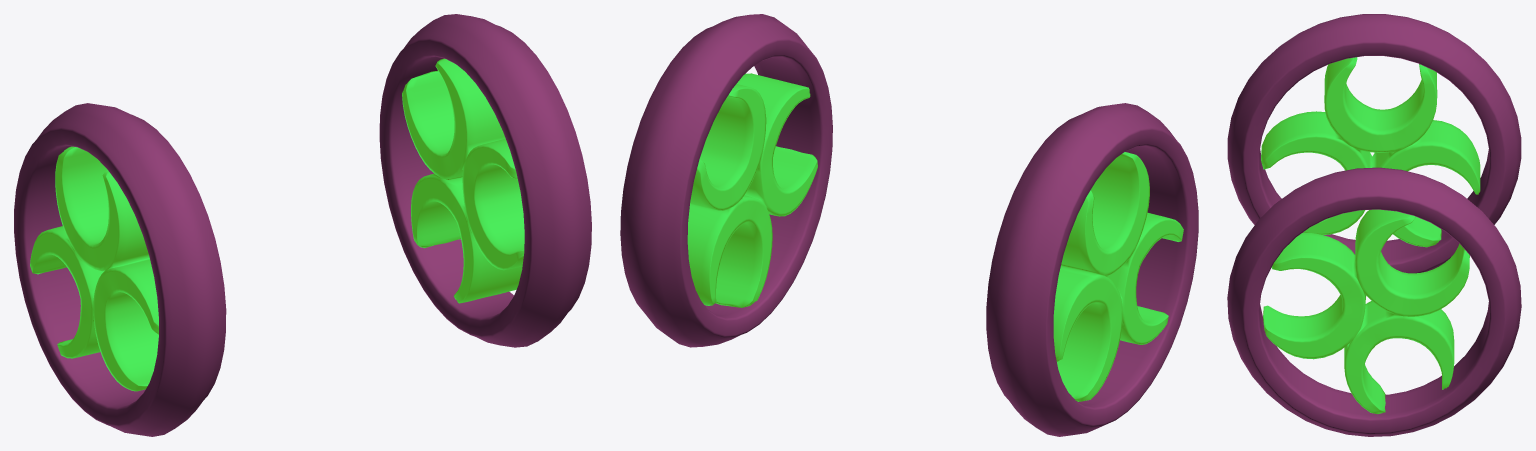
The model's file is AlienBackWheel.fbx.
3 views of the same model, side by side, from view 1: azimuth 30°, elevation 25°; view 2: azimuth 150°, elevation 25°; view 3: azimuth 270°, elevation 25° (orthographic). The views are drawn at different scales.
Visible parts, largest first — view 1: polySurface16; view 2: polySurface16; view 3: polySurface16.
Part boxes in pixels (x1,y1,x2,y2): polySurface16: (14, 14, 591, 436); polySurface16: (620, 14, 1198, 436); polySurface16: (1227, 14, 1521, 436).
Bounding box in the file's own units: 2.92 × 2.02 × 2.02.
